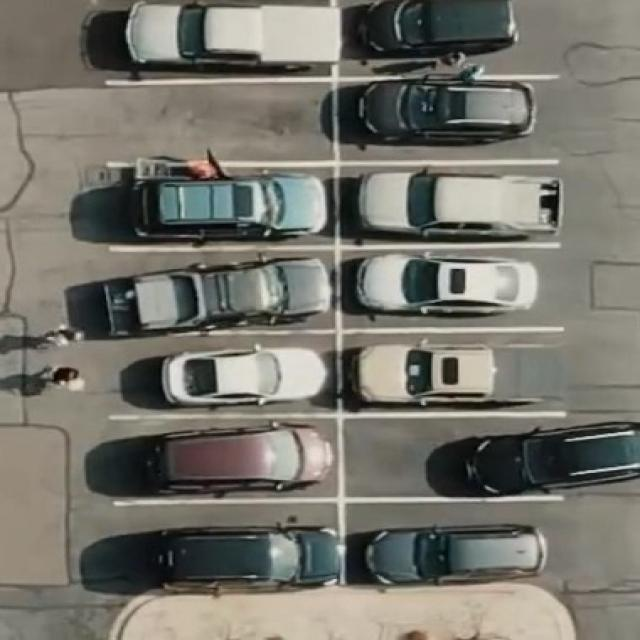space-empty: (103, 75, 335, 169)
space-occupied: (89, 498, 342, 594), (82, 244, 337, 338), (94, 413, 337, 502), (101, 158, 337, 248), (337, 326, 574, 414), (340, 412, 576, 500), (335, 158, 568, 246), (335, 71, 556, 161), (337, 242, 562, 329), (98, 2, 340, 82), (111, 331, 339, 415), (342, 498, 554, 586), (340, 0, 522, 71)
